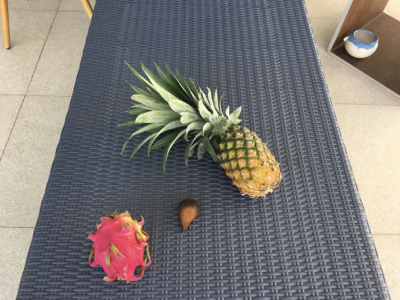dragon fruit: (87, 212, 152, 284)
pineapple: (118, 60, 282, 198)
snake fruit: (178, 198, 199, 233)
